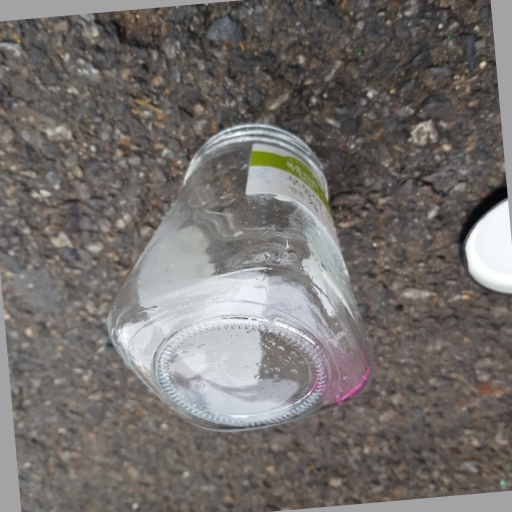Glass_5: (99, 125, 369, 429)
